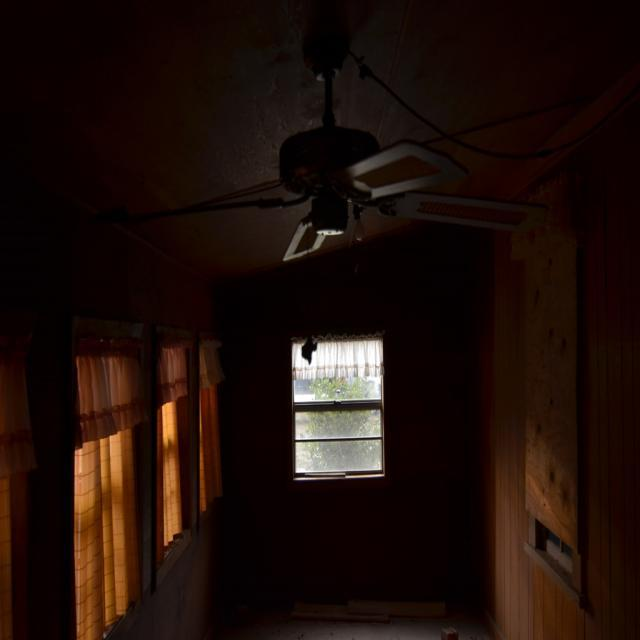fan_off: (132, 20, 548, 266)
